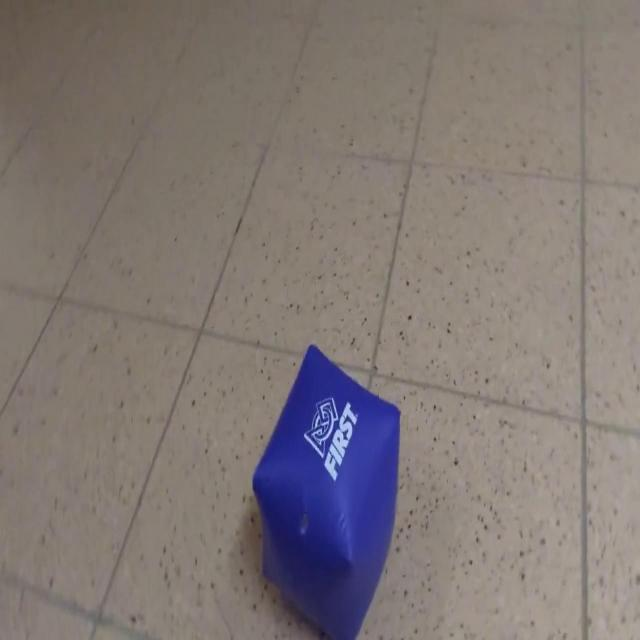frc_cube: (252, 346, 402, 640)
